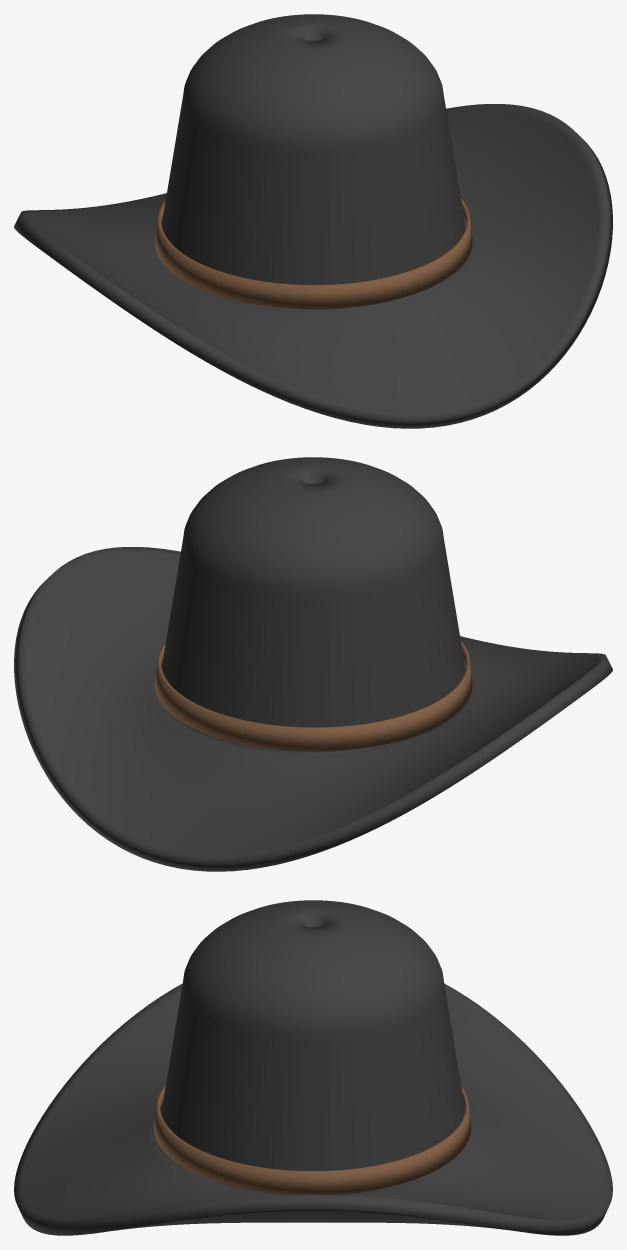
File: texana_CUSTOM_08_04_v2.glb
3 renders of one model, top to bottom at view 1: azimuth 30°, elevation 25°; view 2: azimuth 150°, elevation 25°; view 3: azimuth 270°, elevation 25°, orthographic.
Visible parts, largest first — view 1: Texana_Web, Cinta_Web; view 2: Texana_Web, Cinta_Web; view 3: Texana_Web, Cinta_Web.
Boxes of the visible parts, x1,y1,x2,y2 form: Texana_Web: (14,14,612,428); Cinta_Web: (155,198,472,309); Texana_Web: (14,457,612,871); Cinta_Web: (155,641,472,751); Texana_Web: (14,900,612,1235); Cinta_Web: (154,1084,471,1194).
Size of the model in its own units: 0.3659 by 0.1875 by 0.3636.
